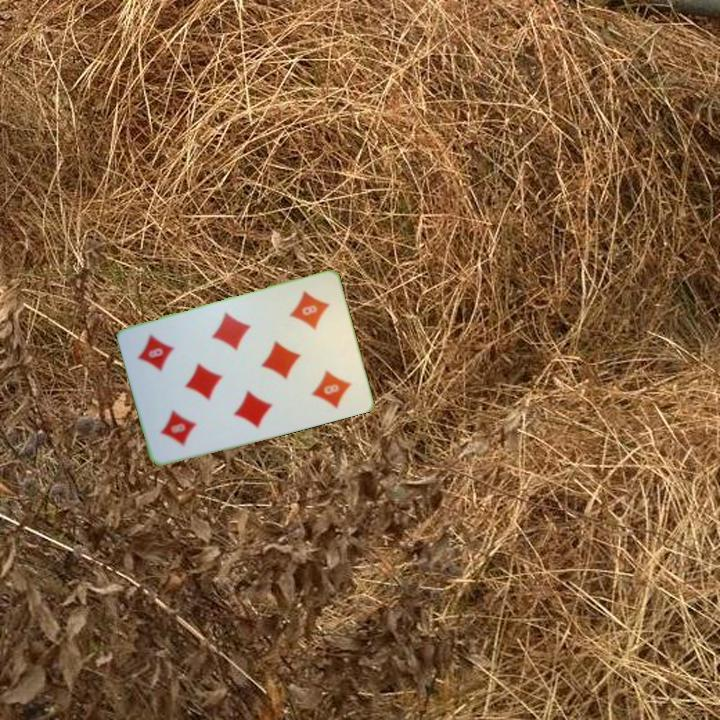d_8.png: (143, 379, 215, 457), (275, 280, 347, 358)
